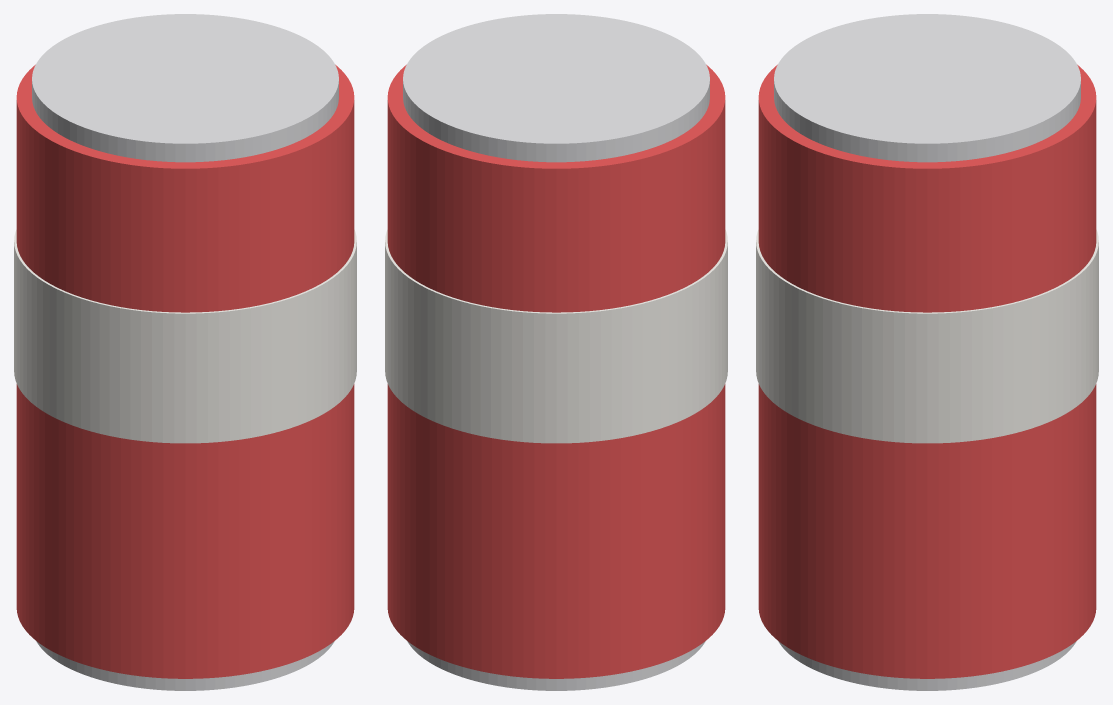
The model's file is lata-demo.glb.
3 renders of one model, left to right at view 1: azimuth 30°, elevation 25°; view 2: azimuth 150°, elevation 25°; view 3: azimuth 270°, elevation 25°, orthographic.
Parts seen in each view (by area): view 1: lata, etiqueta, tapa, base; view 2: lata, etiqueta, tapa, base; view 3: lata, etiqueta, tapa, base.
Part boxes in pixels (x1,y1,x2,y2): lata: (16, 64, 354, 678); etiqueta: (14, 229, 356, 443); tapa: (32, 14, 338, 162); base: (36, 641, 334, 690); lata: (387, 64, 725, 678); etiqueta: (385, 229, 727, 443); tapa: (403, 14, 709, 162); base: (407, 641, 705, 690); lata: (758, 64, 1096, 678); etiqueta: (756, 229, 1098, 443); tapa: (774, 14, 1080, 162); base: (778, 641, 1076, 690).
Bounding box in the file's own units: 0.67 × 1.18 × 0.67.
